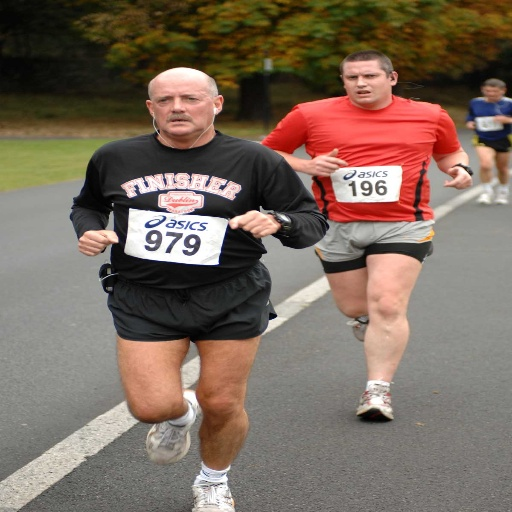hand: (217, 208, 279, 243), (304, 147, 352, 181), (75, 228, 122, 257), (442, 166, 474, 190), (492, 115, 507, 123), (465, 121, 474, 130)
